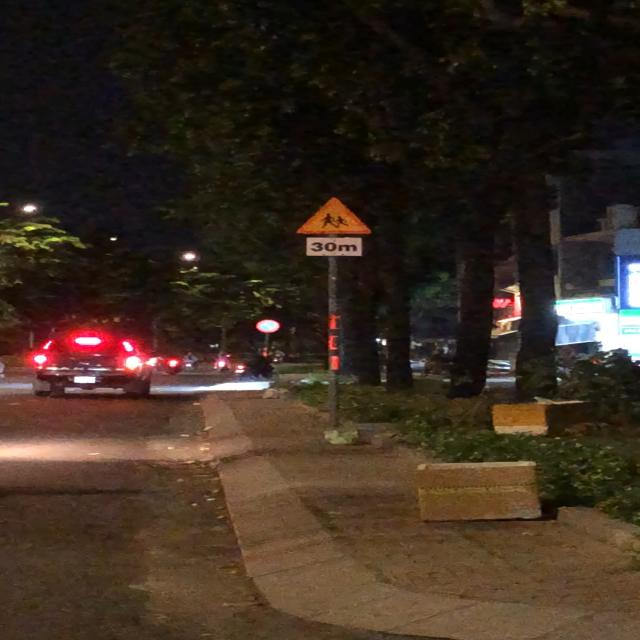Bien bao tre em: (296, 197, 372, 236)
